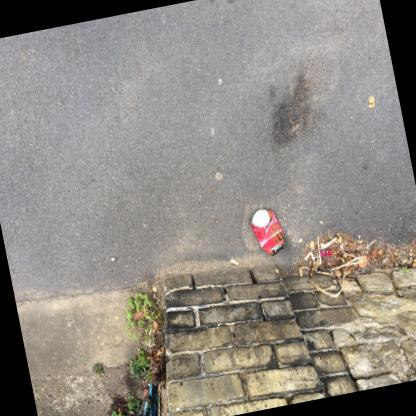Metal: (249, 208, 283, 255)
Paper: (303, 251, 310, 260), (229, 257, 237, 264), (147, 328, 151, 334), (298, 268, 301, 275), (142, 306, 144, 311)
